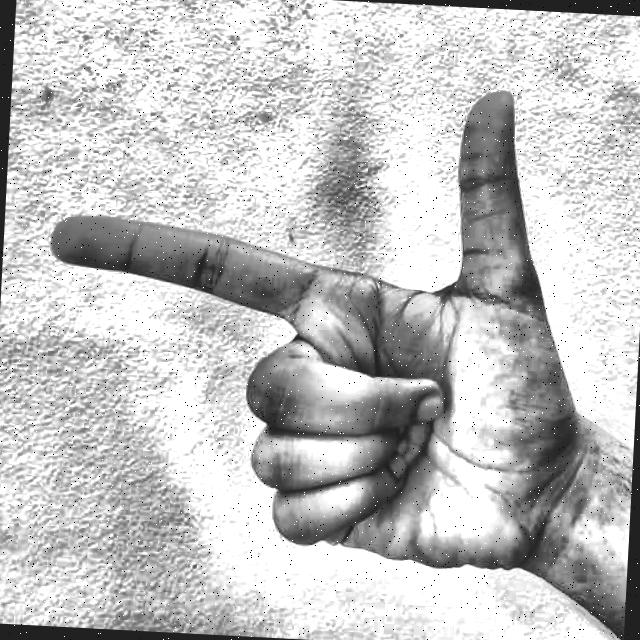Tha: (20, 49, 603, 620)
